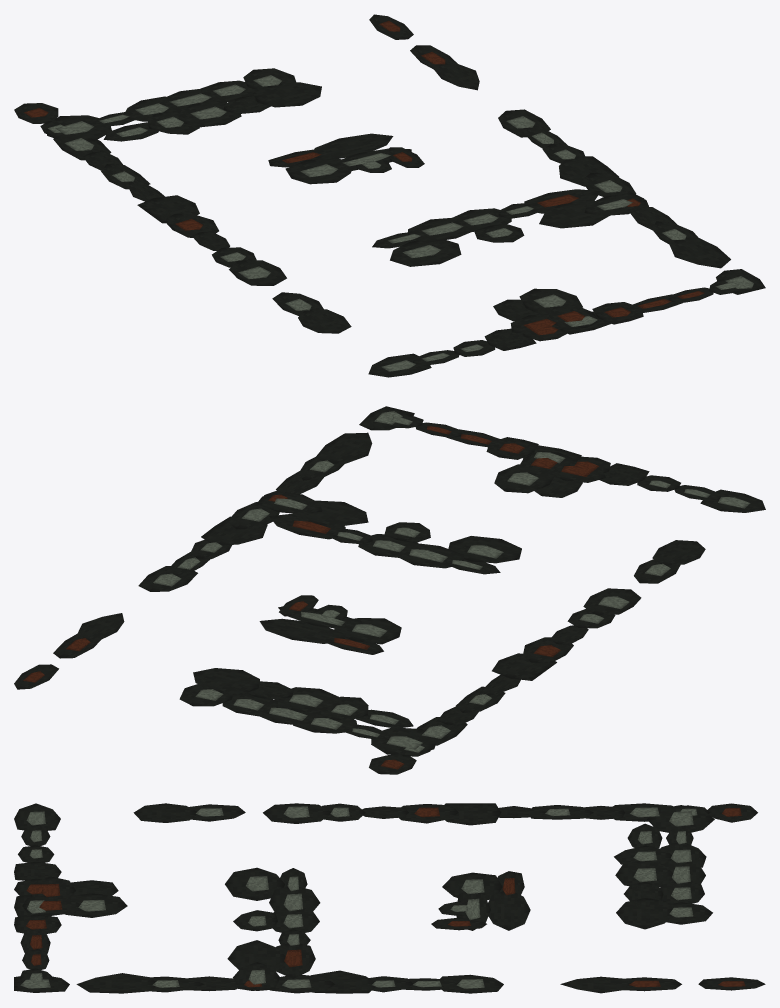
Rendered from THStage_RuinGroundFragments.fbx.
The picture shows the model from 3 angles, top to bottom: view 1: azimuth 30°, elevation 25°; view 2: azimuth 150°, elevation 25°; view 3: azimuth 270°, elevation 25°; orthographic projection.
Parts seen in each view (by area): view 1: THStage_RuinGroundFragments.018; view 2: THStage_RuinGroundFragments.018; view 3: THStage_RuinGroundFragments.018.
Boxes of the visible parts, x1,y1,x2,y2 form: THStage_RuinGroundFragments.018: [14, 14, 765, 377]; THStage_RuinGroundFragments.018: [14, 406, 765, 774]; THStage_RuinGroundFragments.018: [14, 803, 765, 993].
Size of the model in its own units: 4.99 by 0.00213 by 8.34.
1 material, 1 textured.
